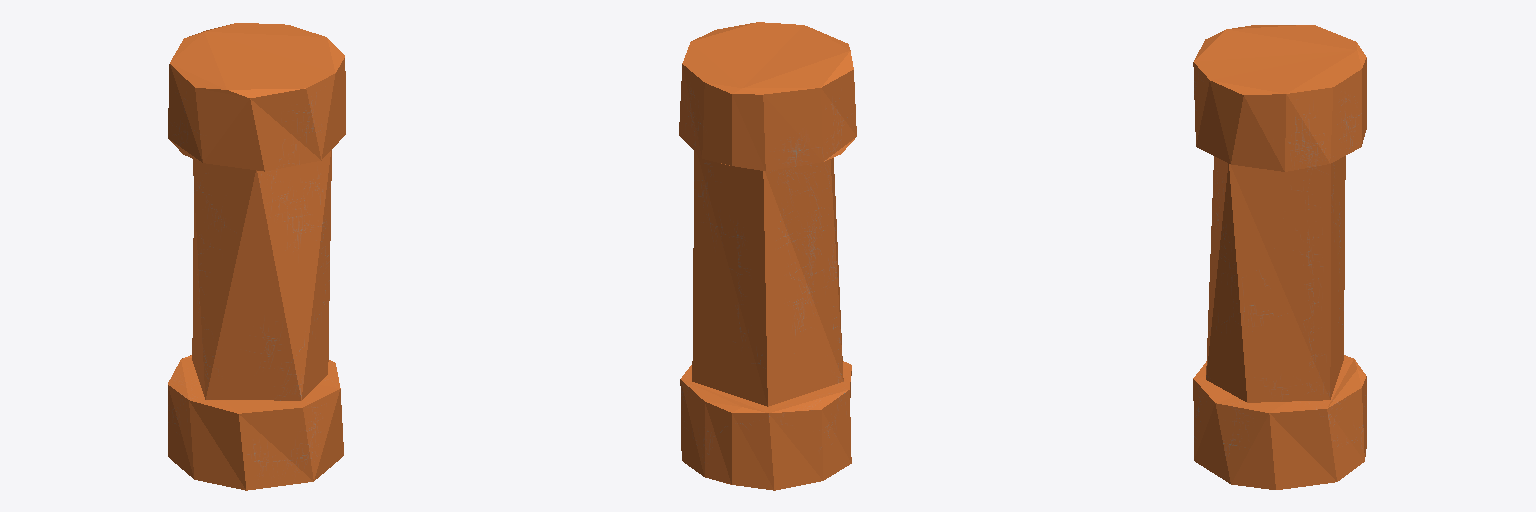
The picture shows the model from 3 angles: view 1: azimuth 30°, elevation 25°; view 2: azimuth 150°, elevation 25°; view 3: azimuth 270°, elevation 25°; orthographic projection.
Parts seen in each view (by area): view 1: Cylinder.002_Cylinder.003_Cylinder.002_Cylinder.003; view 2: Cylinder.002_Cylinder.003_Cylinder.002_Cylinder.003; view 3: Cylinder.002_Cylinder.003_Cylinder.002_Cylinder.003.
Boxes of the visible parts, <box> form: Cylinder.002_Cylinder.003_Cylinder.002_Cylinder.003: <box>168,23,345,490</box>; Cylinder.002_Cylinder.003_Cylinder.002_Cylinder.003: <box>679,22,856,490</box>; Cylinder.002_Cylinder.003_Cylinder.002_Cylinder.003: <box>1193,25,1366,489</box>.
Bounding box in the file's own units: 0.1954 × 0.5001 × 0.1971.
Materials: 1 (1 with a texture image).